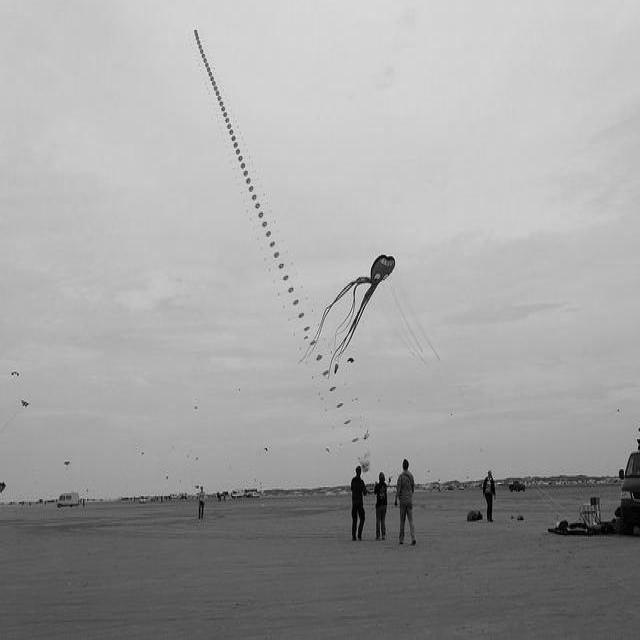vehicle: (618, 451, 640, 538), (56, 492, 79, 509), (509, 481, 526, 493), (445, 484, 454, 490), (251, 492, 260, 497), (459, 486, 465, 492)
